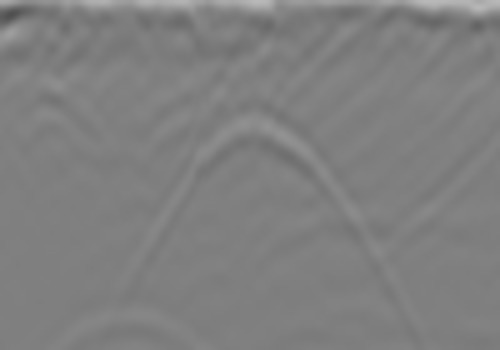hyperbola: (142, 106, 391, 290)
